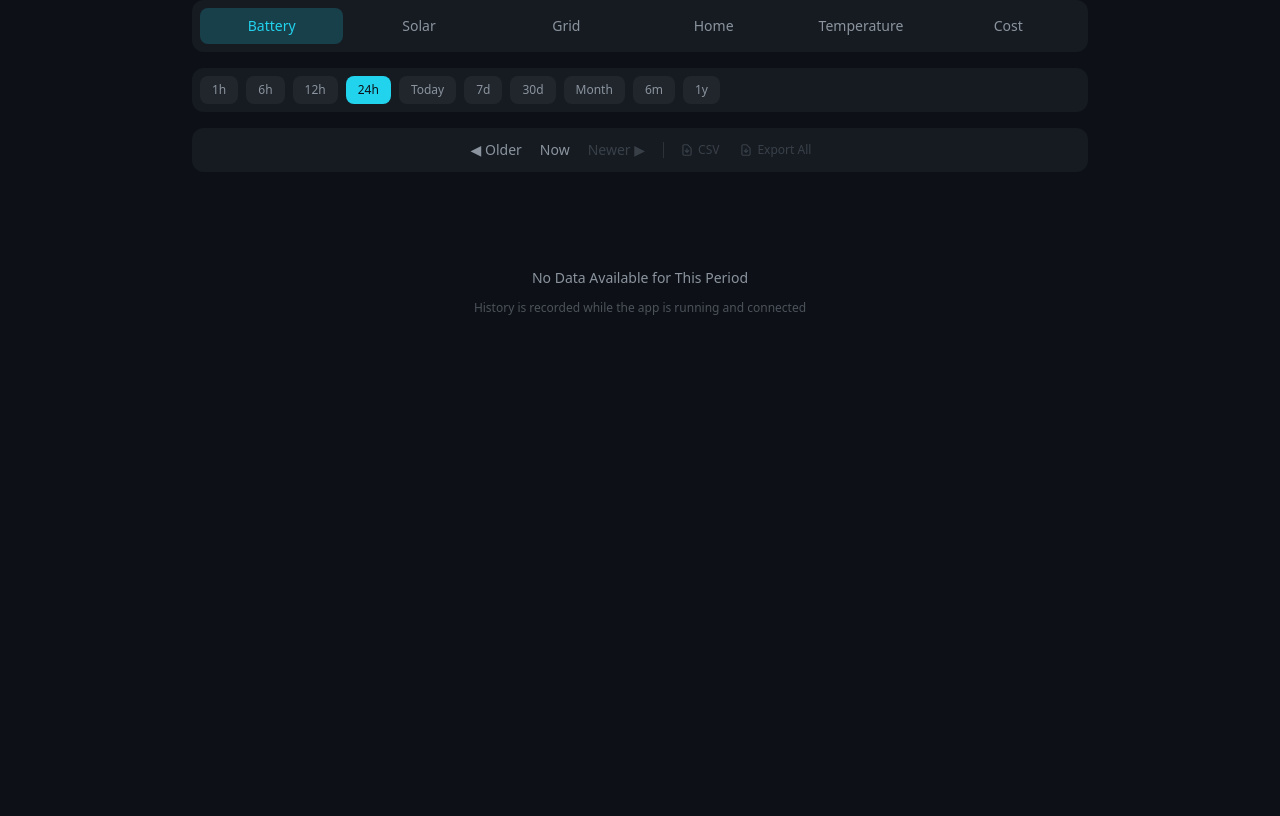
Scenario: <HistoryPage/> — tabs, ranges, navigation, empty state › tabs › explains that Battery − Outdoor is a temperature difference, not a zero-degree reading
The image size is (1280, 816).
What coordinates should you click on to do the following:
click the button "Temperature"
I would click on:
 (861, 26)
Its box is [789,8,933,44].
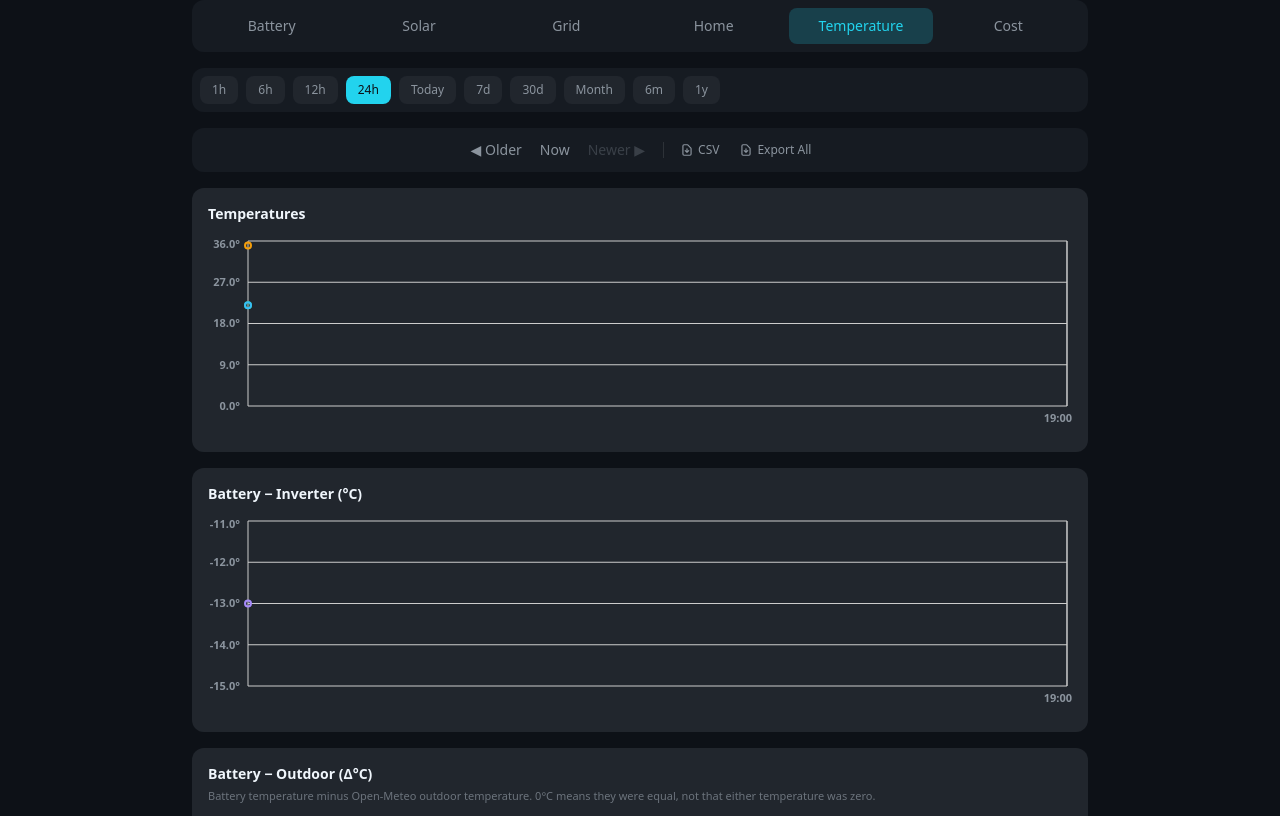
Check: the heading "Battery − Outdoor (Δ°C)" is shown, box [208,764,372,783]
Check: the text "0°C means they were equal, not that either temperature was zero" is shown, box [208,788,875,803]
